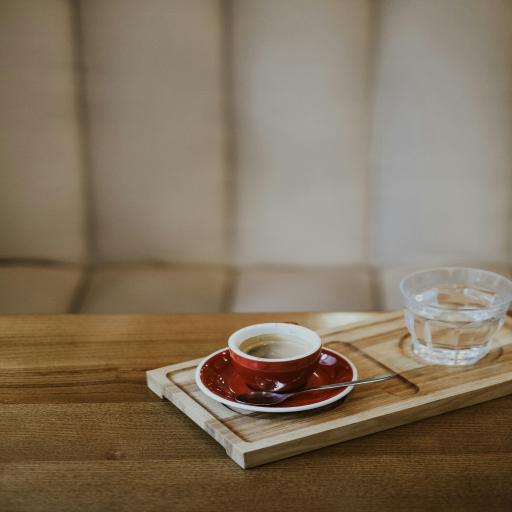cup: (228, 321, 323, 393)
